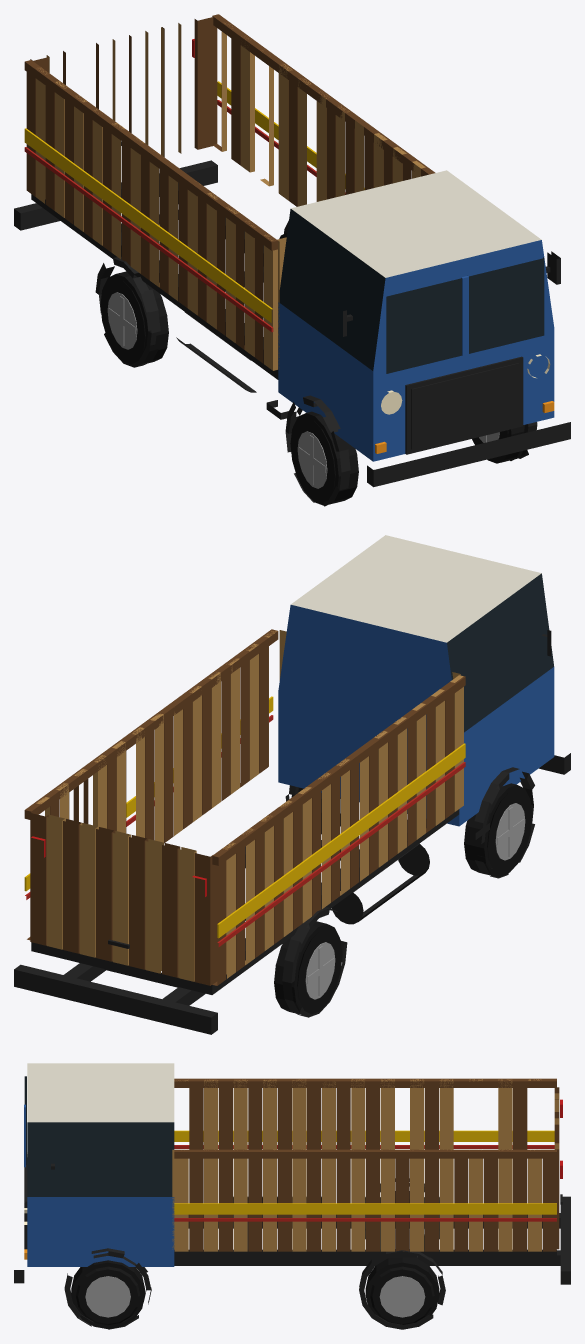
Rendered from truck.glb.
3 views of the same model, one above another, from view 1: azimuth 30°, elevation 25°; view 2: azimuth 150°, elevation 25°; view 3: azimuth 270°, elevation 25° (orthographic). The views are drawn at different scales.
Visible parts, largest first — view 1: body, wheel_fr, wheel_rr, wheel_fl; view 2: body, wheel_fr, wheel_rr; view 3: body, wheel_fl, wheel_rl.
Boxes of the visible parts, left/top/right/bottom form: body: left=14, top=14, right=570, bottom=506; wheel_fr: left=290, top=411, right=358, bottom=505; wheel_rr: left=100, top=271, right=168, bottom=364; wheel_fl: left=472, top=425, right=526, bottom=463; body: left=14, top=535, right=570, bottom=1034; wheel_fr: left=464, top=783, right=532, bottom=877; wheel_rr: left=274, top=921, right=342, bottom=1015; body: left=14, top=1063, right=570, bottom=1329; wheel_fl: left=71, top=1260, right=144, bottom=1329; wheel_rl: left=365, top=1257, right=439, bottom=1324.
Bounding box in the file's own units: 2.65 × 3 × 7.57.
